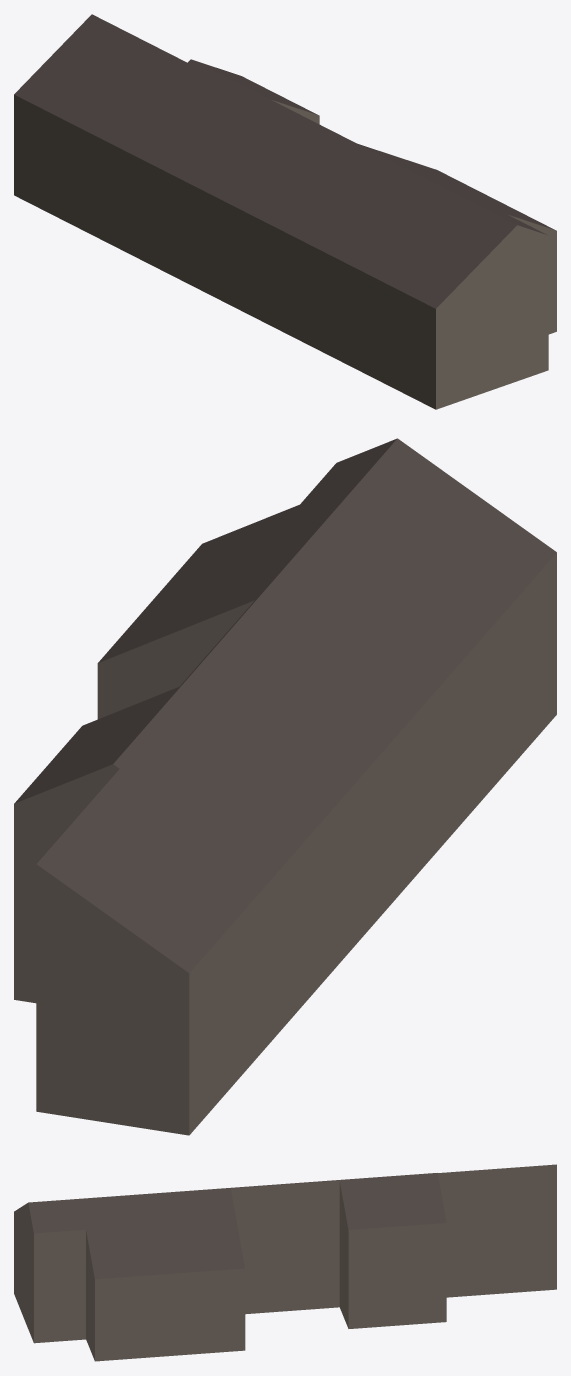
The picture shows the model from 3 angles, top to bottom: view 1: azimuth 30°, elevation 25°; view 2: azimuth 150°, elevation 25°; view 3: azimuth 270°, elevation 25°; orthographic projection. The views are drawn at different scales.
Visible parts, largest first — view 1: HP-w1376988689; view 2: HP-w1376988689; view 3: HP-w1376988689.
Boxes of the visible parts, x1,y1,x2,y2 form: HP-w1376988689: (14, 14, 556, 409); HP-w1376988689: (14, 438, 556, 1135); HP-w1376988689: (14, 1164, 556, 1361).
Bounding box in the file's own units: 16.66 × 9.29 × 35.99.
